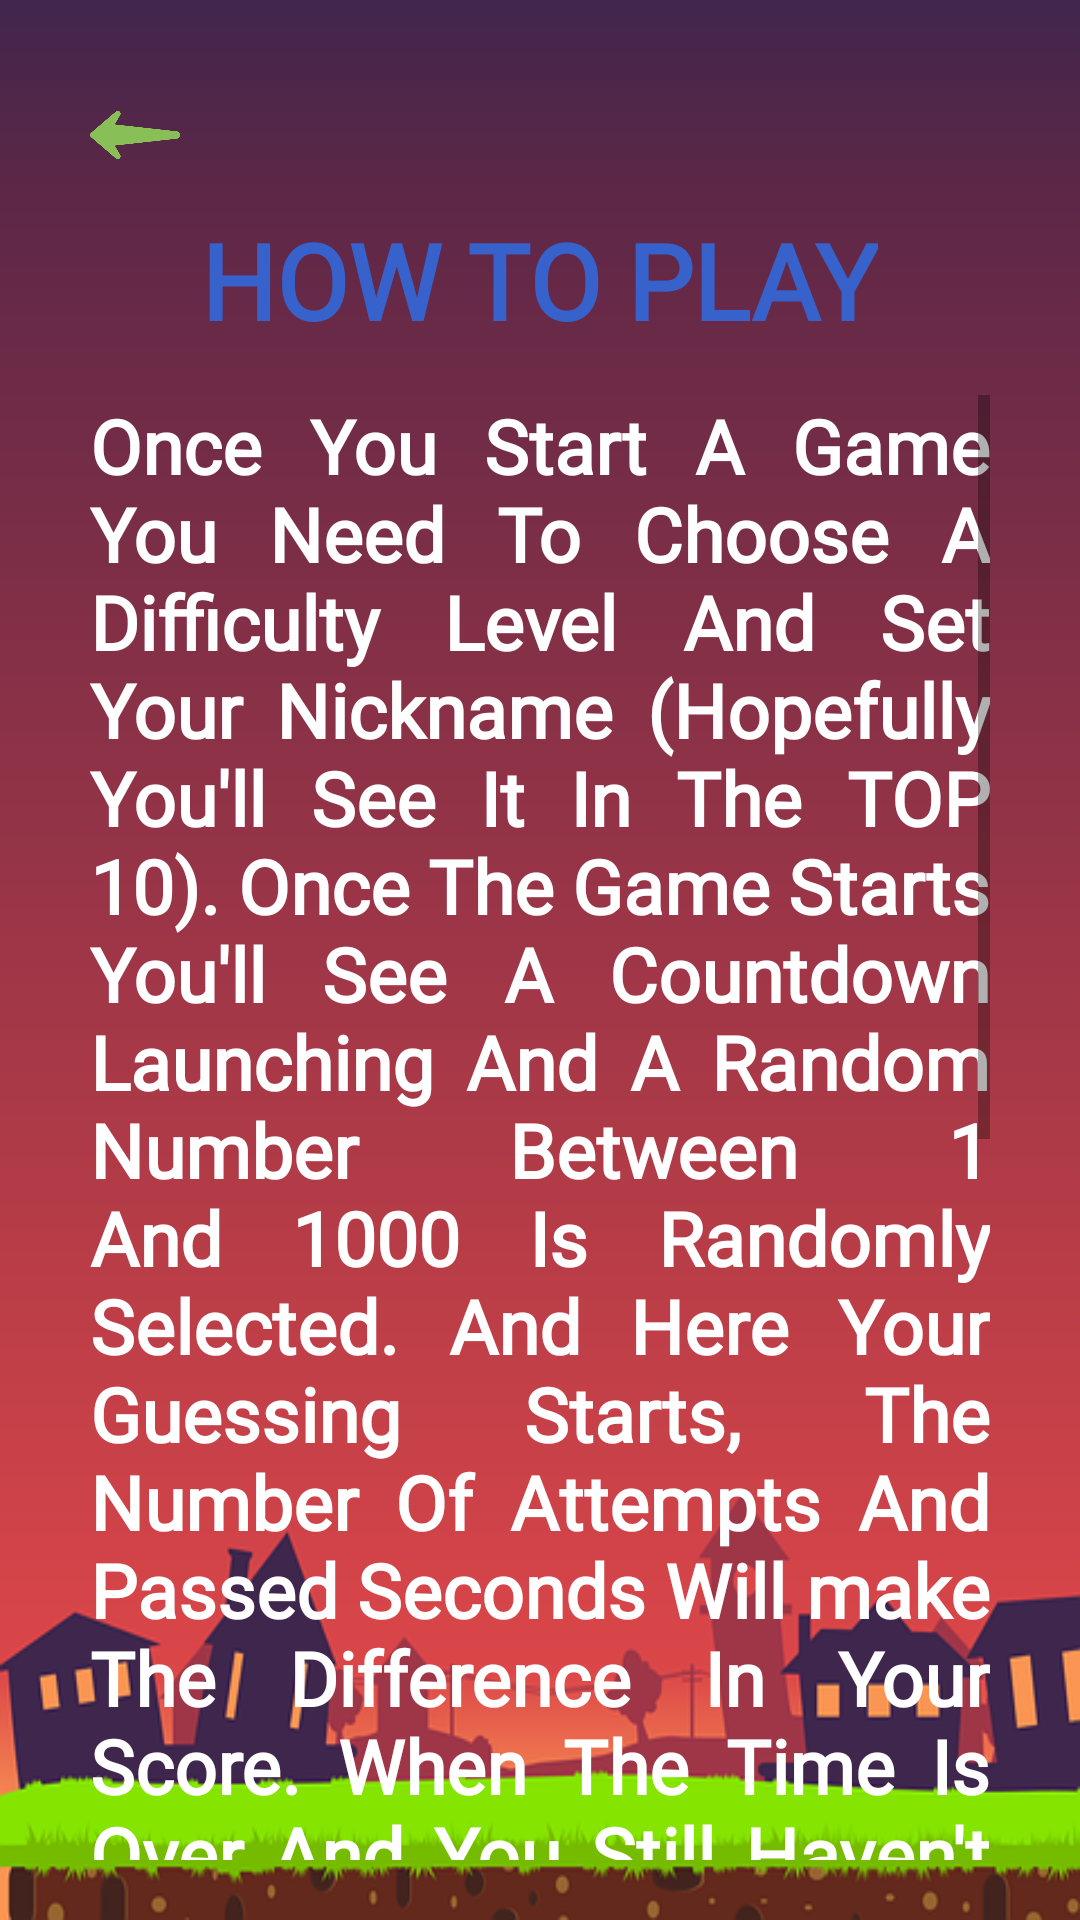

Icon bounding boxes for this 1080px×1920px phone screenshot, format (x1, y1, x2, y2):
arrow back: (90, 90, 180, 159)
